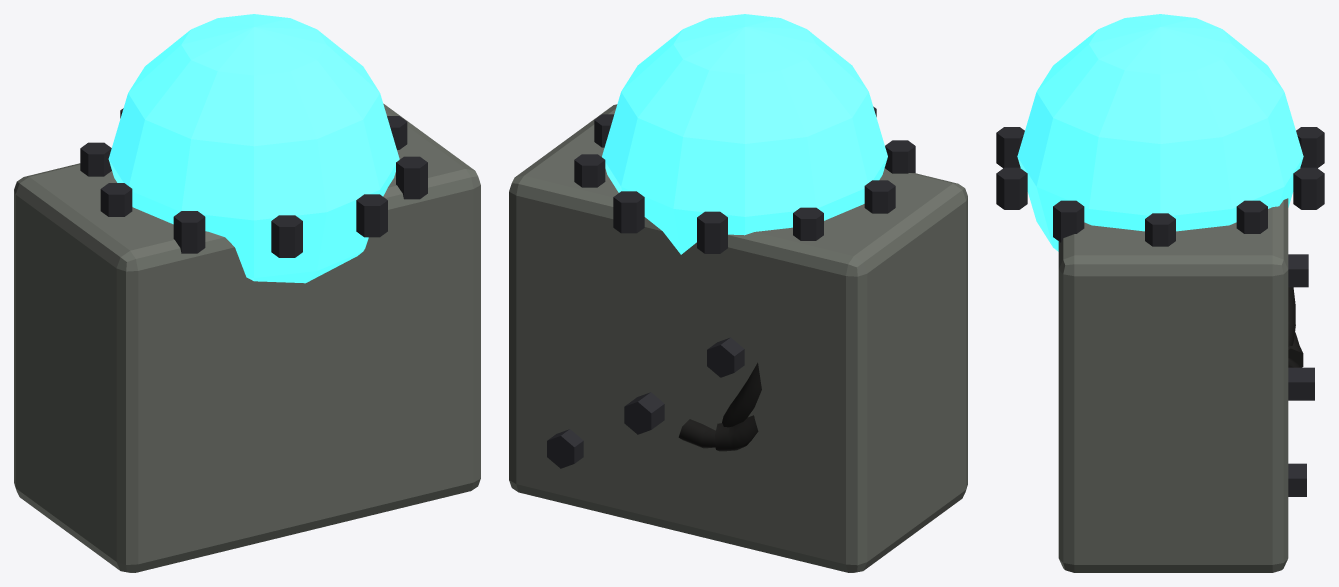
Rendered from mo_aegis.glb.
3 renders of one model, left to right at view 1: azimuth 30°, elevation 25°; view 2: azimuth 150°, elevation 25°; view 3: azimuth 270°, elevation 25°, orthographic.
Visible parts, largest first — view 1: mo_aegis; view 2: mo_aegis; view 3: mo_aegis.
Part boxes in pixels (box(x1,y1,x2,y2)): mo_aegis: box(14, 14, 480, 572); mo_aegis: box(509, 14, 967, 572); mo_aegis: box(996, 14, 1324, 572).
Bounding box in the file's own units: 0.1362 × 0.1696 × 0.1085.
